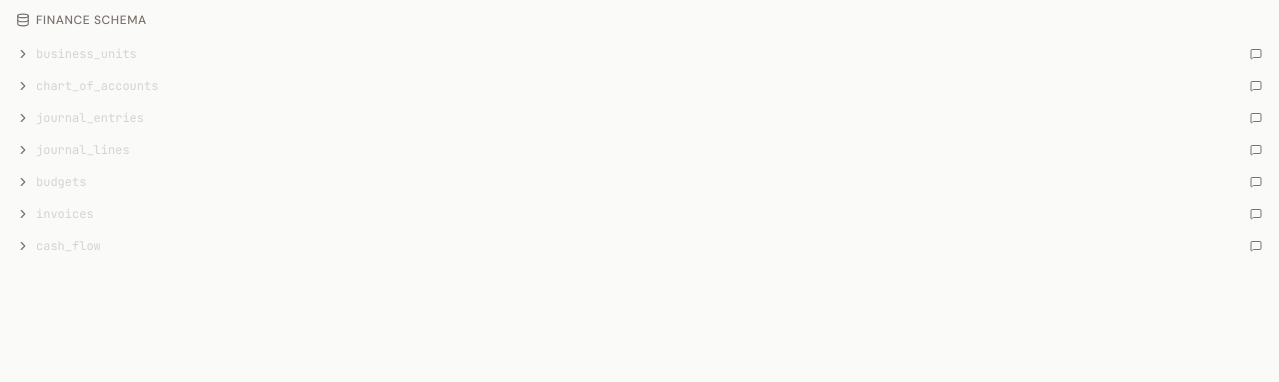
Test case: SchemaExplorer › expands table on click to show columns
Click the button "business_units": (86, 54) [16, 46, 1242, 62]
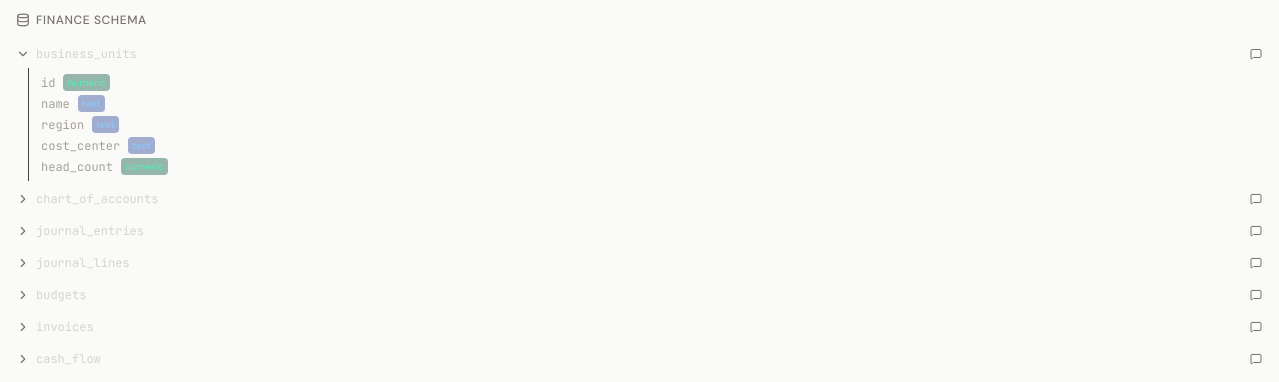
Check: the text "region" is shown, box [41, 116, 84, 132]
